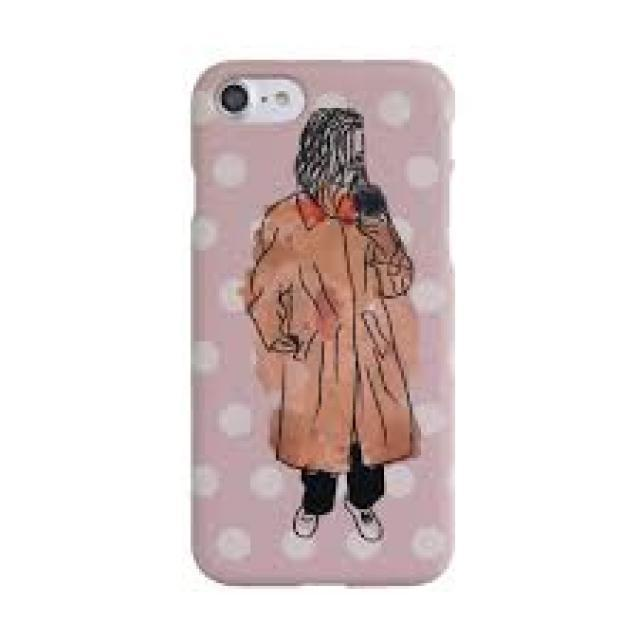Phone: (184, 52, 457, 588)
